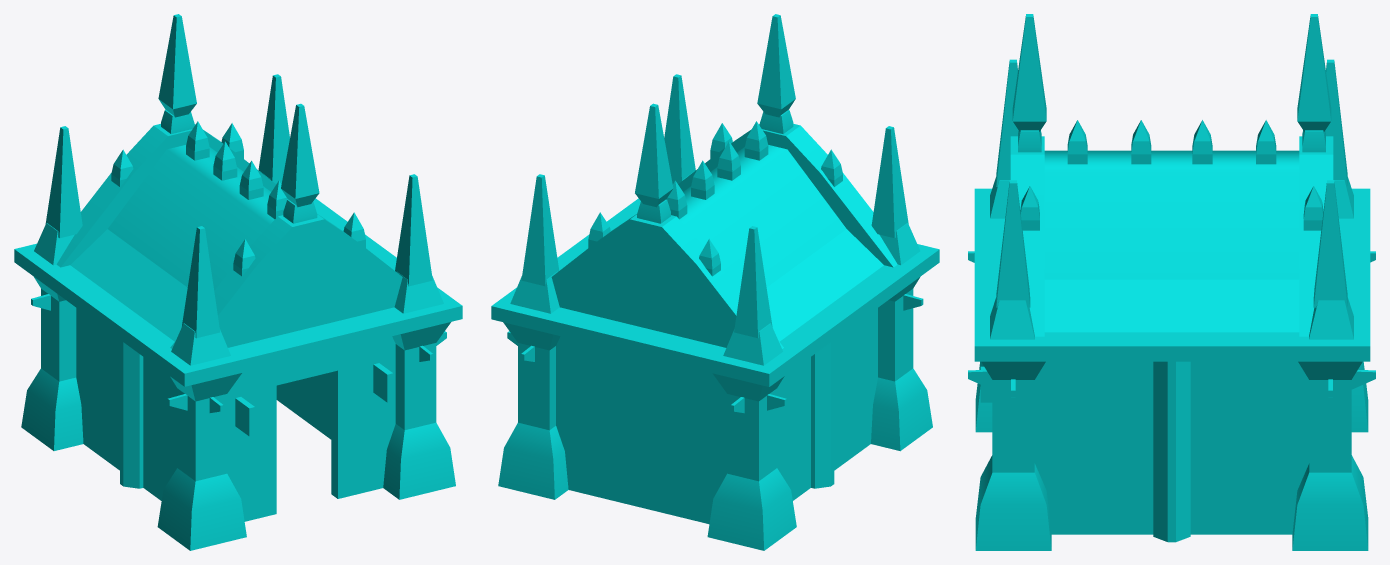
The model's file is SM_Prop_Crypt_02_Collision2.fbx.
3 views of the same model, side by side, from view 1: azimuth 30°, elevation 25°; view 2: azimuth 150°, elevation 25°; view 3: azimuth 270°, elevation 25° (orthographic). The views are drawn at different scales.
Visible parts, largest first — view 1: SM_Prop_Crypt_02_Collision2; view 2: SM_Prop_Crypt_02_Collision2; view 3: SM_Prop_Crypt_02_Collision2.
Part boxes in pixels (x1,y1,x2,y2): SM_Prop_Crypt_02_Collision2: (14, 14, 462, 550); SM_Prop_Crypt_02_Collision2: (491, 14, 939, 550); SM_Prop_Crypt_02_Collision2: (968, 14, 1375, 550).
Bounding box in the file's own units: 464 × 631 × 507.
